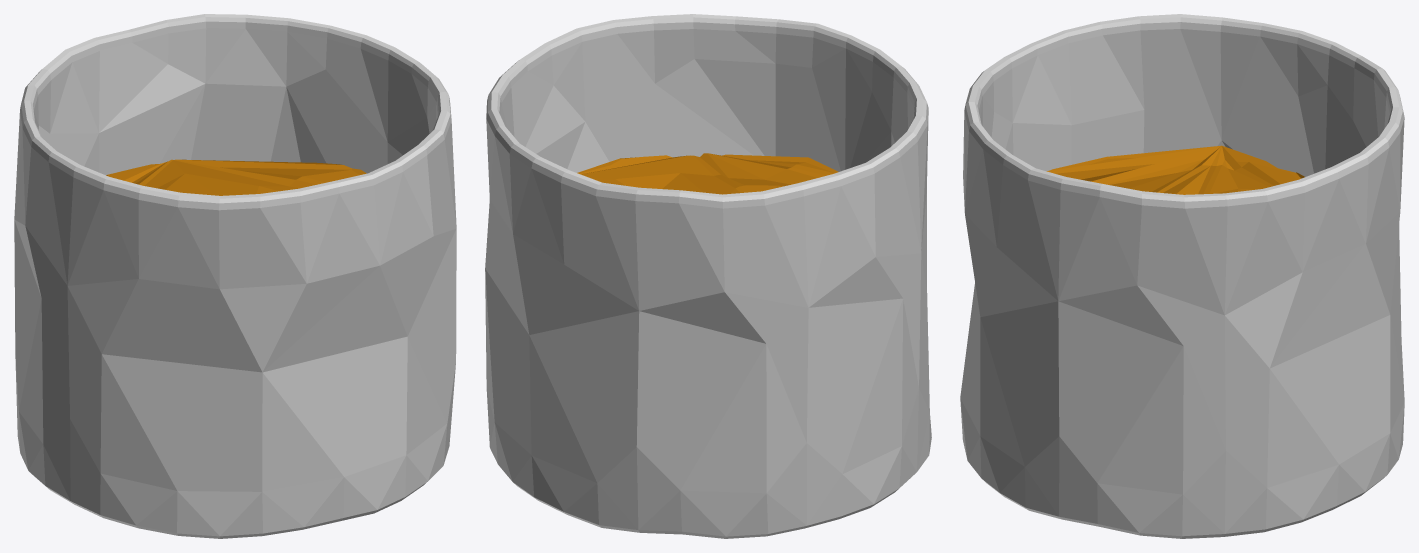
File: Wisky.FBX
The picture shows the model from 3 angles, left to right: view 1: azimuth 30°, elevation 25°; view 2: azimuth 150°, elevation 25°; view 3: azimuth 270°, elevation 25°; orthographic projection.
Visible parts, largest first — view 1: Box001; view 2: Box001; view 3: Box001.
Boxes of the visible parts, bbox=[...] form: Box001: bbox=[14, 14, 456, 538]; Box001: bbox=[485, 14, 931, 538]; Box001: bbox=[960, 14, 1404, 538].
Bounding box in the file's own units: 4.98 × 4.32 × 4.96.
